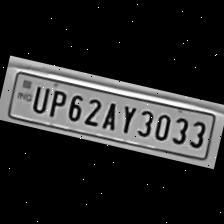0: (150, 108, 174, 140)
2: (79, 92, 104, 126)
3: (185, 115, 210, 151), (132, 104, 156, 138), (168, 111, 192, 144)
6: (62, 89, 86, 122)
A: (98, 96, 123, 130)
P: (44, 86, 70, 119)
U: (26, 80, 51, 114)
Y: (116, 101, 140, 135)
